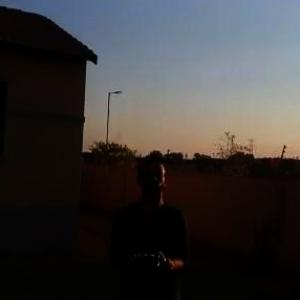follow: (102, 150, 197, 299)
